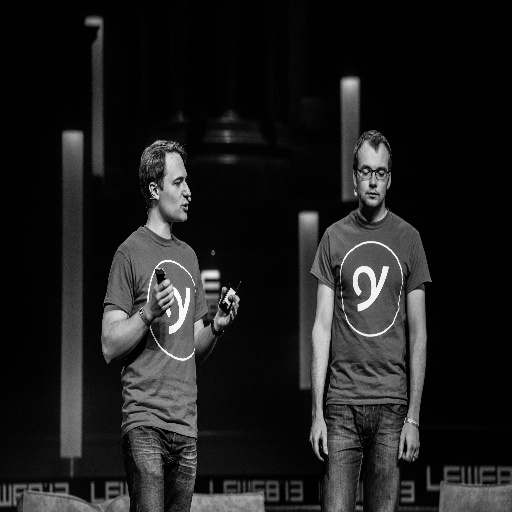hand: (207, 285, 240, 343), (398, 421, 421, 465), (308, 417, 329, 463), (150, 277, 174, 316)
